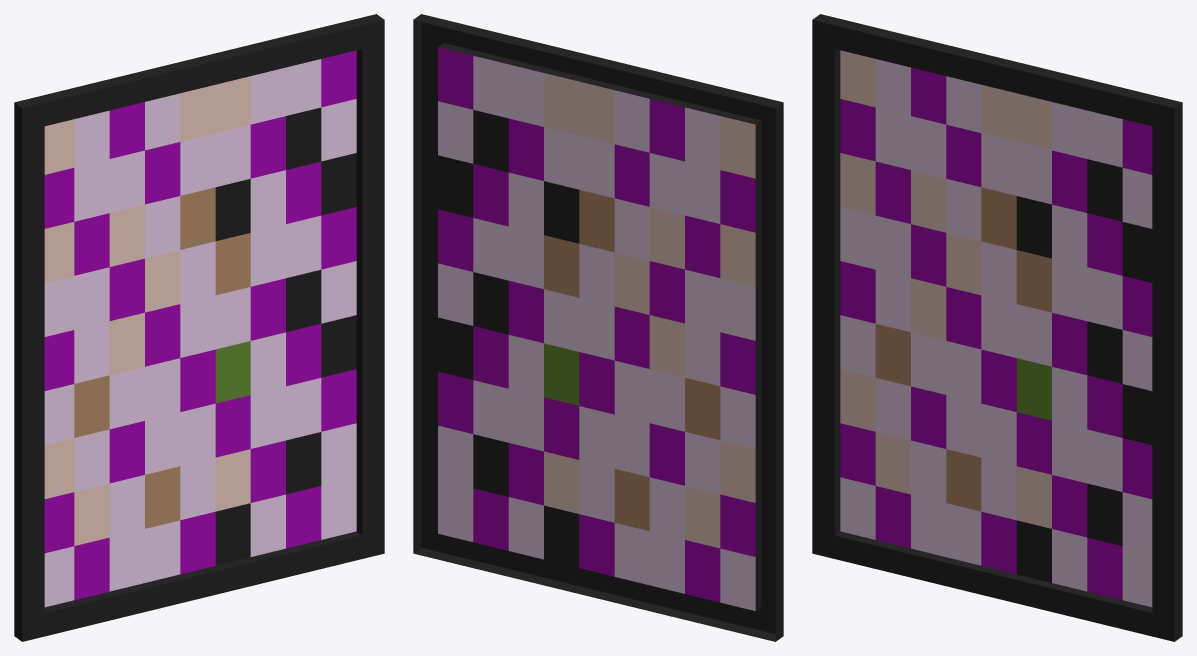
File: frame_interior.glb
3 renders of one model, left to right at view 1: azimuth 30°, elevation 25°; view 2: azimuth 150°, elevation 25°; view 3: azimuth 330°, elevation 25°, orthographic.
Visible parts, largest first — view 1: frame_wall; view 2: frame_wall; view 3: frame_wall.
Boxes of the visible parts, left/top/right/bottom form: frame_wall: left=14, top=14, right=384, bottom=641; frame_wall: left=413, top=14, right=783, bottom=641; frame_wall: left=812, top=14, right=1182, bottom=641.
Size of the model in its own units: 67.78 by 95.37 by 2.62.
1 material, 1 textured.
